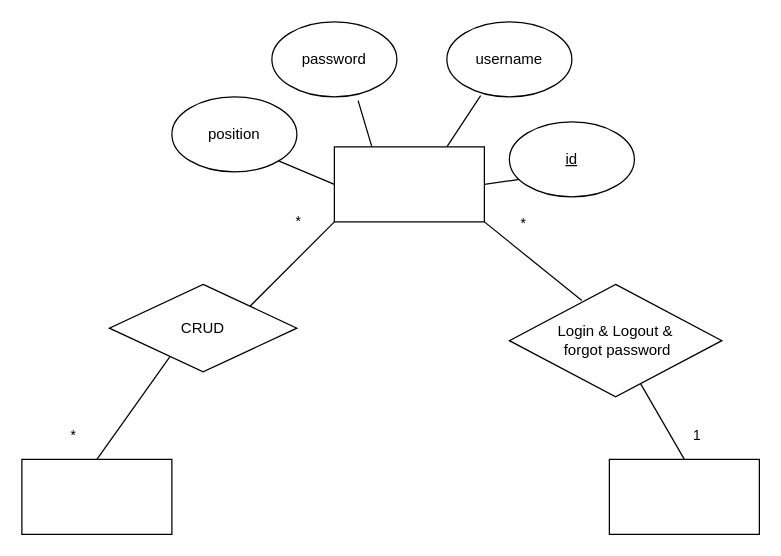
This 781x556 diagram has some shape labels left out. Here are the shapes that lost their labels. From the top down, the centre of each, then its label:
the point at 408,184: Users DB
the point at 96,496: User
the point at 683,496: login&logout
